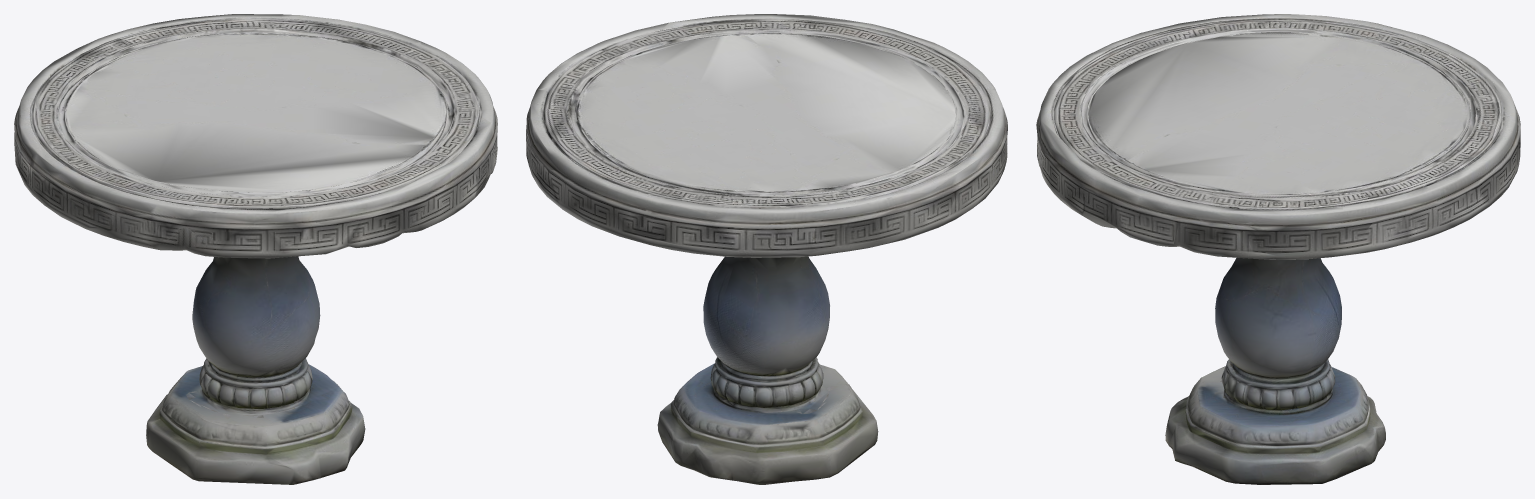
File: stoneTable.glb
3 views of the same model, side by side, from view 1: azimuth 30°, elevation 25°; view 2: azimuth 150°, elevation 25°; view 3: azimuth 270°, elevation 25° (orthographic).
Parts seen in each view (by area): view 1: node_0; view 2: node_0; view 3: node_0.
Boxes of the visible parts, x1=… form: node_0: x1=14, y1=14, x2=497, y2=484; node_0: x1=526, y1=14, x2=1007, y2=484; node_0: x1=1036, y1=14, x2=1520, y2=484.
Size of the model in its own units: 1 by 0.7497 by 0.9979.
Materials: 1 (1 with a texture image).
